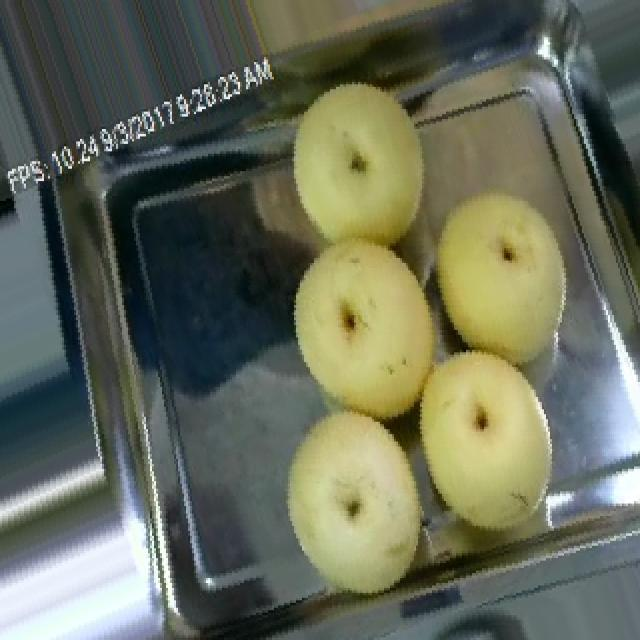Fruit: (386, 162, 602, 390), (384, 320, 588, 556), (264, 392, 454, 620), (264, 57, 452, 283), (272, 228, 466, 444)
